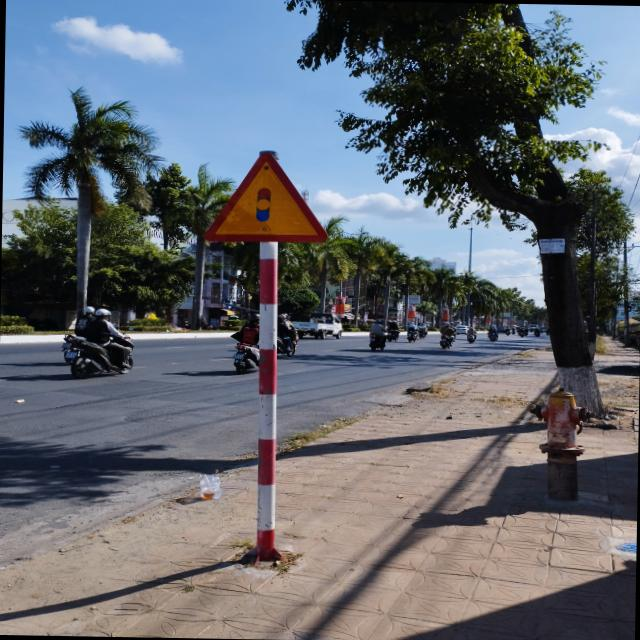Duong_Co_Go_Giam_Toc: (203, 152, 330, 242)
